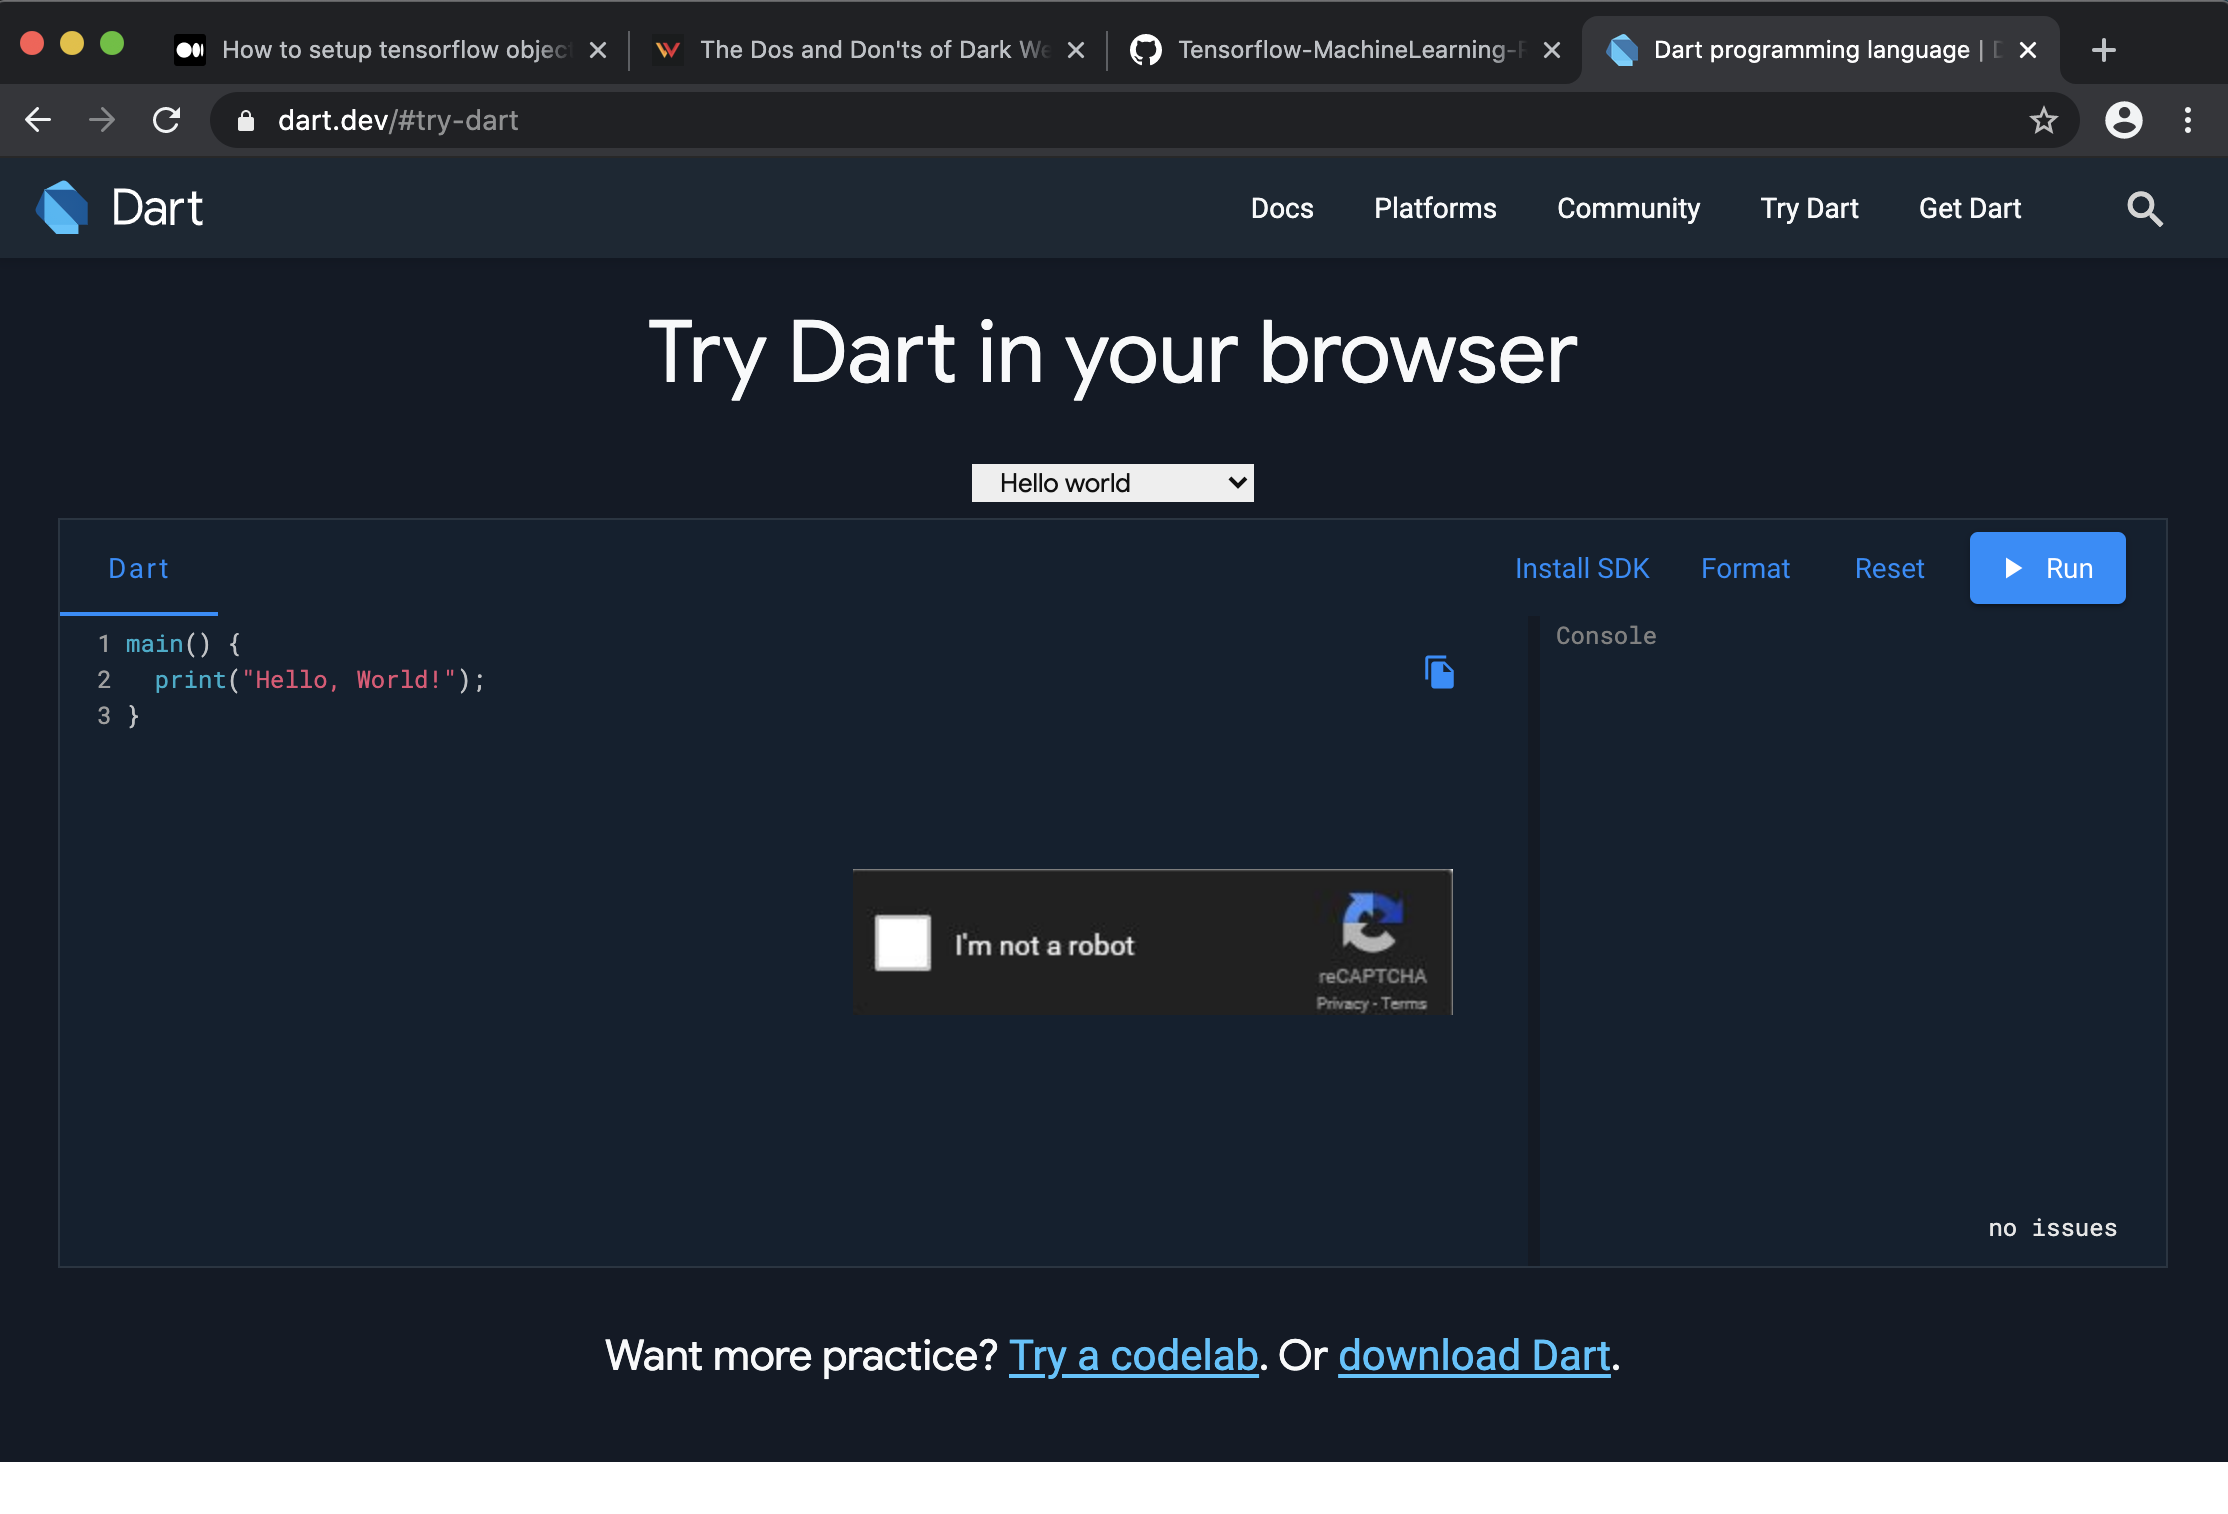captcha: (829, 843, 1476, 1046)
